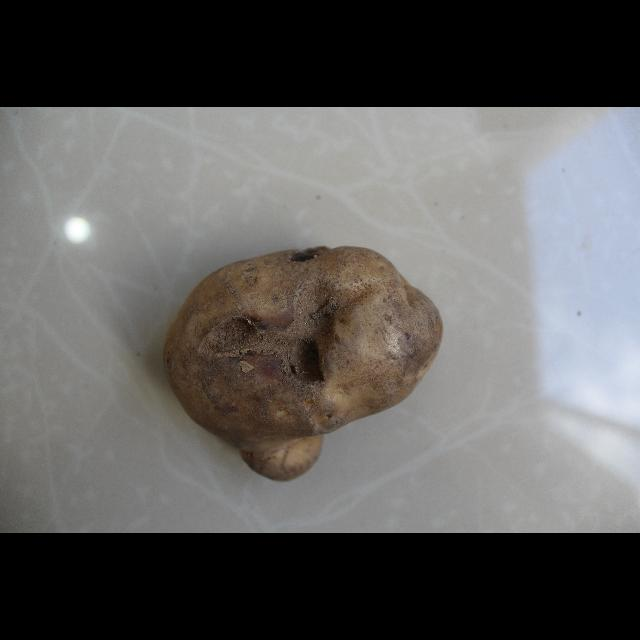Damaged potato: (162, 246, 442, 486)
